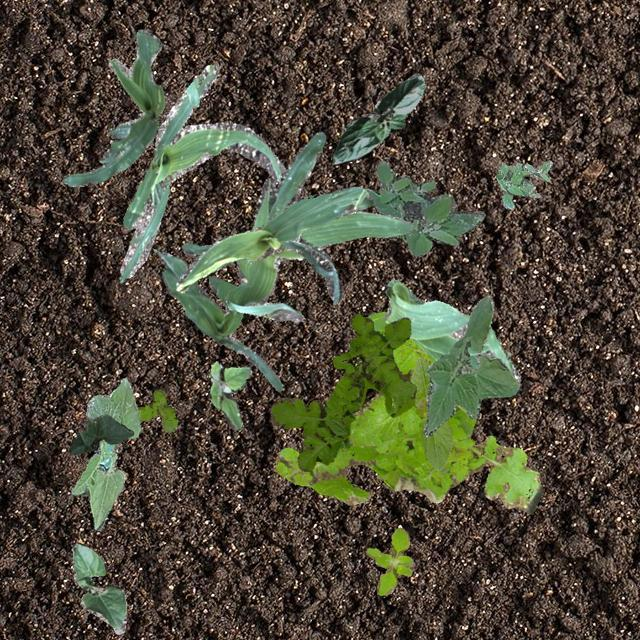crop: (182, 130, 412, 320), (118, 64, 284, 282), (175, 186, 372, 304), (157, 250, 281, 390), (62, 28, 164, 185), (384, 278, 520, 386), (422, 294, 516, 436), (70, 376, 140, 530), (330, 73, 424, 164), (70, 542, 126, 634), (408, 356, 451, 470), (68, 414, 132, 454)
weed: (272, 310, 542, 512), (270, 312, 416, 470), (364, 160, 484, 254), (366, 526, 412, 594), (208, 361, 250, 428), (494, 160, 552, 208), (136, 388, 176, 432)
